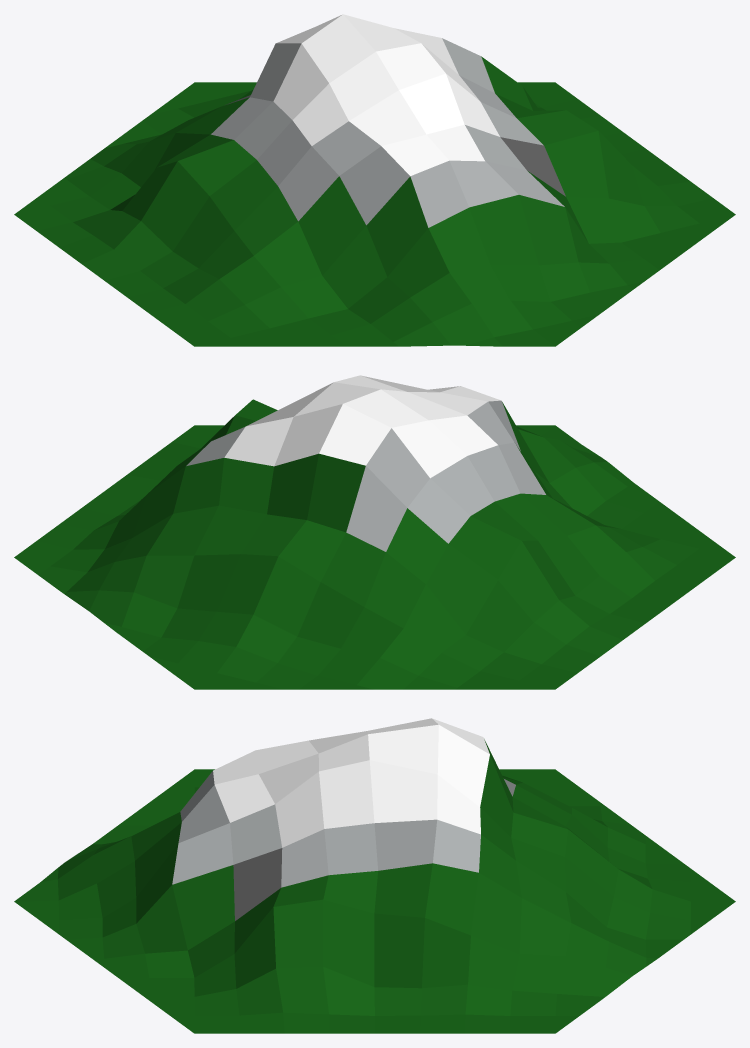
File: mountain2.glb
The picture shows the model from 3 angles, top to bottom: view 1: azimuth 30°, elevation 25°; view 2: azimuth 150°, elevation 25°; view 3: azimuth 270°, elevation 25°; orthographic projection.
Visible parts, largest first — view 1: mountain; view 2: mountain; view 3: mountain.
Part boxes in pixels (x1=…): mountain: x1=14, y1=14, x2=735, y2=346; mountain: x1=14, y1=375, x2=735, y2=689; mountain: x1=14, y1=718, x2=735, y2=1033.
Bounding box in the file's own units: 1.73 × 0.5409 × 2.
